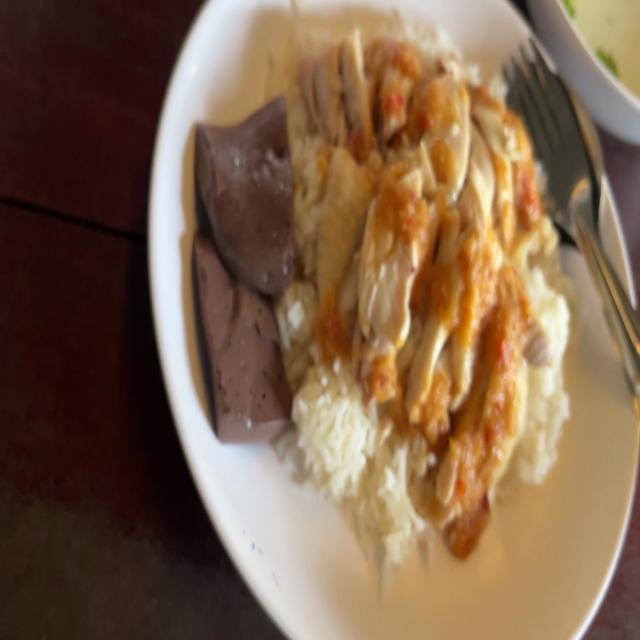boiled_chicken: (293, 32, 530, 448)
boiled_chicken_blood_jelly: (190, 228, 284, 441), (194, 95, 295, 291)
chicken_rice: (195, 4, 577, 570)
